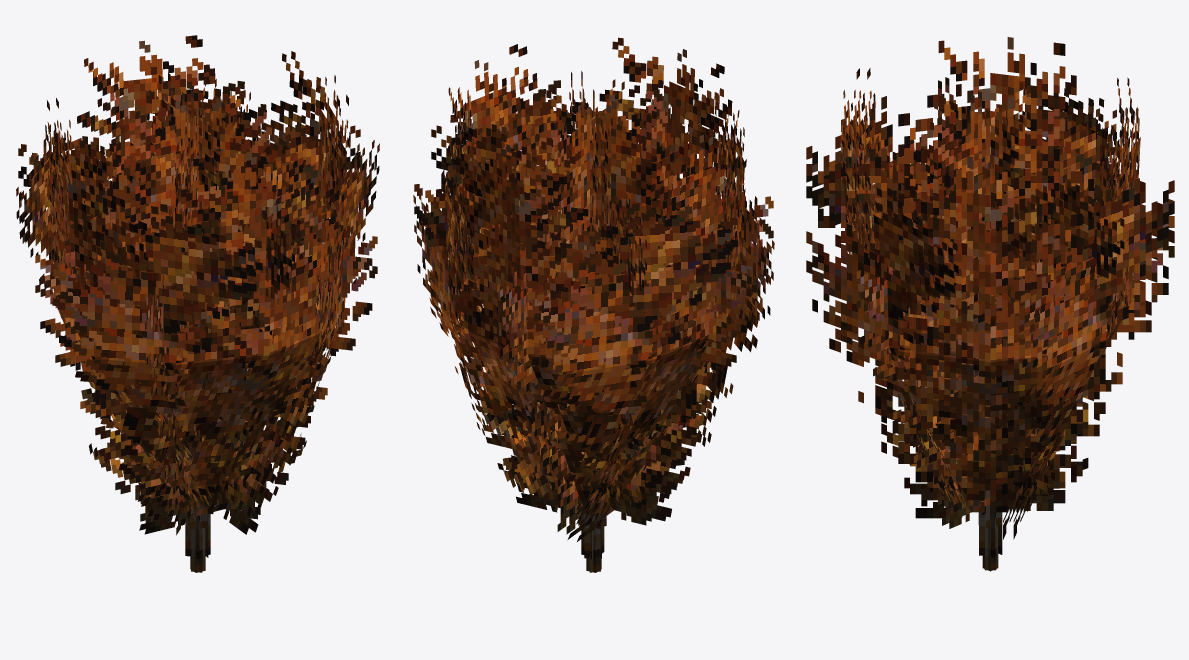
Rendered from bush01_fall.glb.
3 views of the same model, side by side, from view 1: azimuth 30°, elevation 25°; view 2: azimuth 150°, elevation 25°; view 3: azimuth 270°, elevation 25° (orthographic).
Parts seen in each view (by area): view 1: bush01; view 2: bush01; view 3: bush01.
Boxes of the visible parts, box(x1,y1,x2,y2) form: bush01: box(16, 35, 379, 572); bush01: box(413, 37, 774, 572); bush01: box(806, 37, 1174, 571).
Bounding box in the file's own units: 1.05 × 1.5 × 1.05.
Materials: 1 (1 with a texture image).
